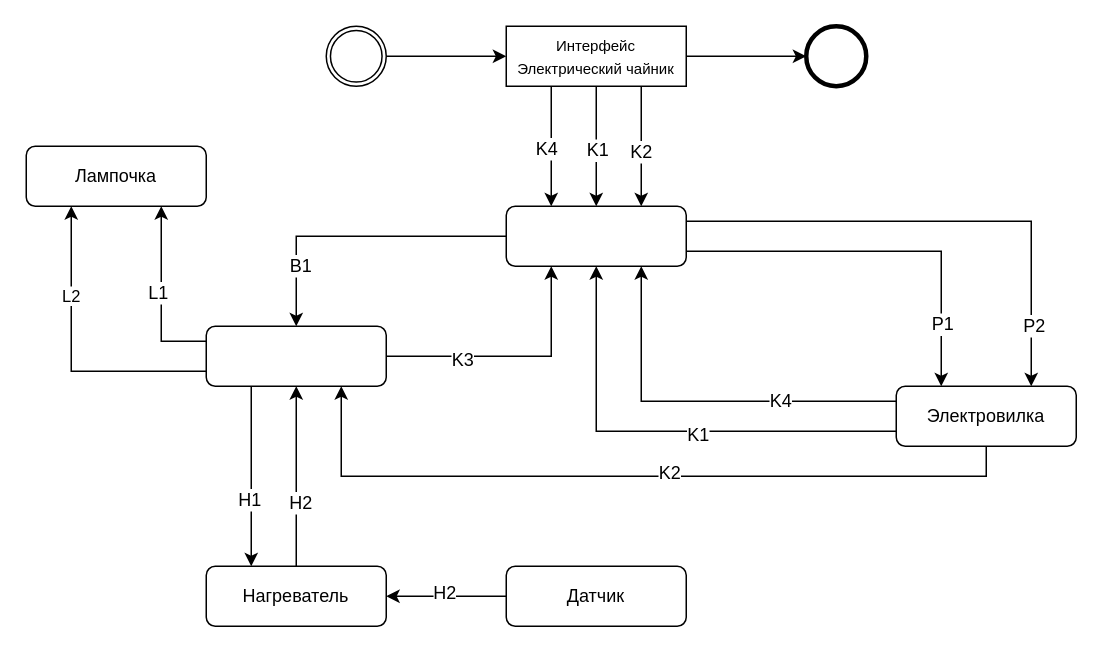
Some shapes in this 1103 by 653 pixel diagram are drawn without their labels. The centre of each missing label's shape, as x and y in pixels:
"Кнопка" belongs at point 295,355.
"Чайник" belongs at point 595,235.
